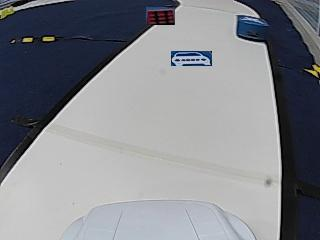prop: (236, 14, 269, 42)
